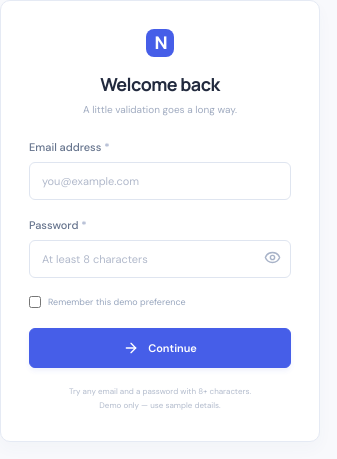
LoginForm › submits a trimmed email and remember preference without exposing the password
Type " demo@example.com " into the field labelled "Email address *".
click(160, 181); type(" demo@example.com ")  # box top-left (29, 162), bottom-right (291, 200)
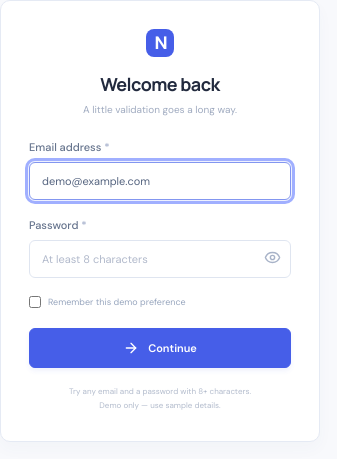
Type "sample123" into the password field labelled "Password".
click(160, 259); type("sample123")  # box top-left (29, 240), bottom-right (291, 278)
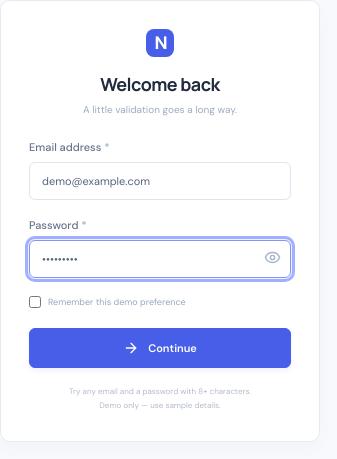
Click the checkbox labelled "Remember this demo preference".
click(35, 302)  # box top-left (29, 296), bottom-right (41, 308)
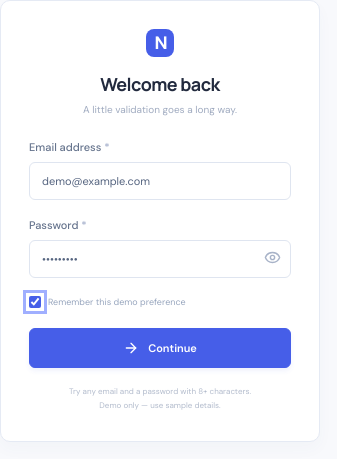
Click the button "Continue".
click(160, 348)  # box top-left (29, 328), bottom-right (291, 368)
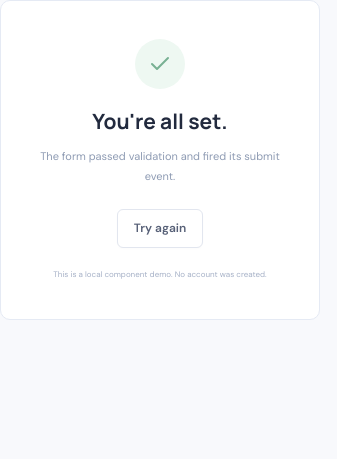
Check: the message shows "You're all set.", box top-left (92, 107), bottom-right (228, 135)
Check: the label labelled "Email address" is gone
